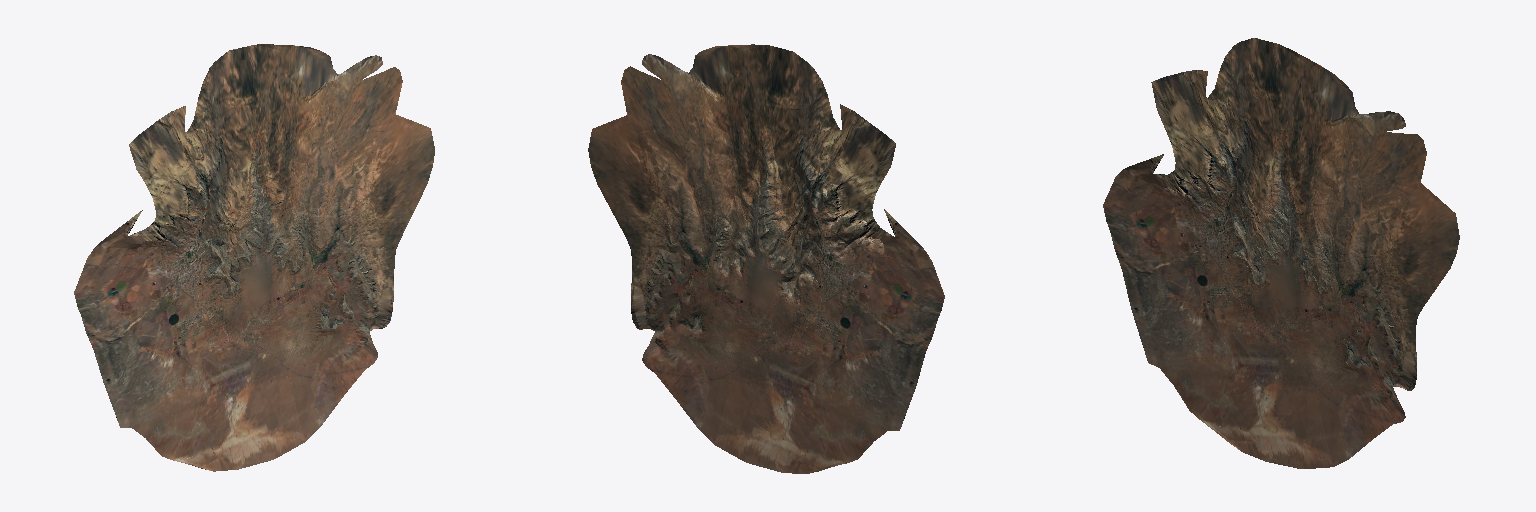
3 views of the same model, side by side, from view 1: azimuth 30°, elevation 25°; view 2: azimuth 150°, elevation 25°; view 3: azimuth 330°, elevation 25° (orthographic).
Visible parts, largest first — view 1: dryLand:Mesh; view 2: dryLand:Mesh; view 3: dryLand:Mesh.
Boxes of the visible parts, x1,y1,x2,y2 form: dryLand:Mesh: [74, 44, 434, 471]; dryLand:Mesh: [588, 44, 944, 473]; dryLand:Mesh: [1103, 38, 1459, 468].
Size of the model in its own units: 77.9 by 87.61 by 2.01.
Materials: 1 (1 with a texture image).